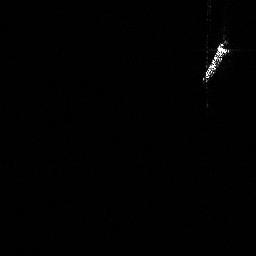ship: (197, 37, 233, 85)
